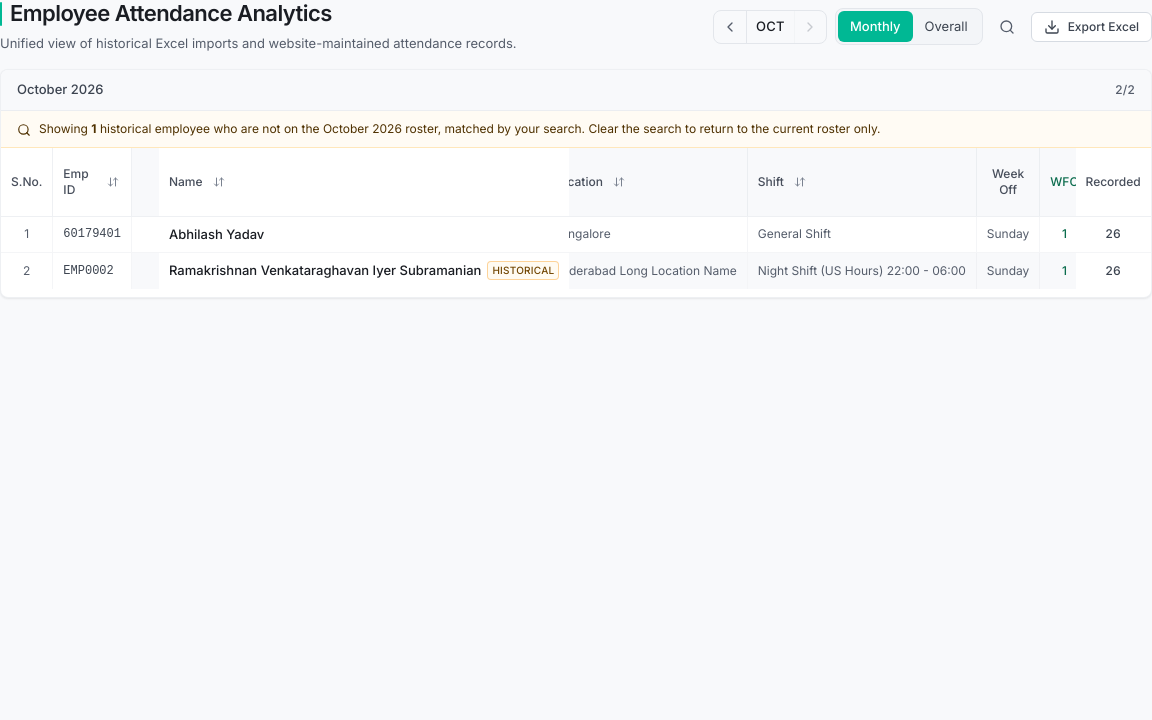
Test case: AdminAnalyticsPage table layout › gives the detail-modal tables the same width-stability treatment
This screenshot has width=1152, height=720.
Click the text "Abhilash Yadav": [216, 234] box [168, 224, 264, 244]
(page scrolled)
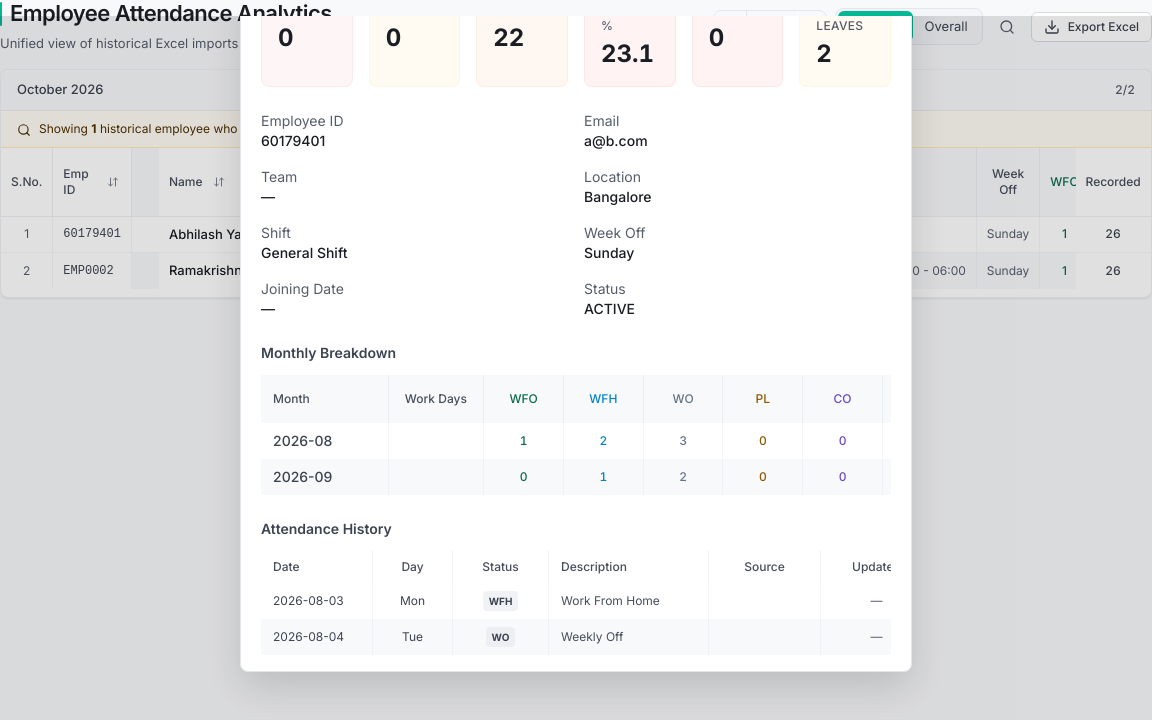
Expected: the heading "Monthly Breakdown" is shown, [261, 344, 396, 360]
